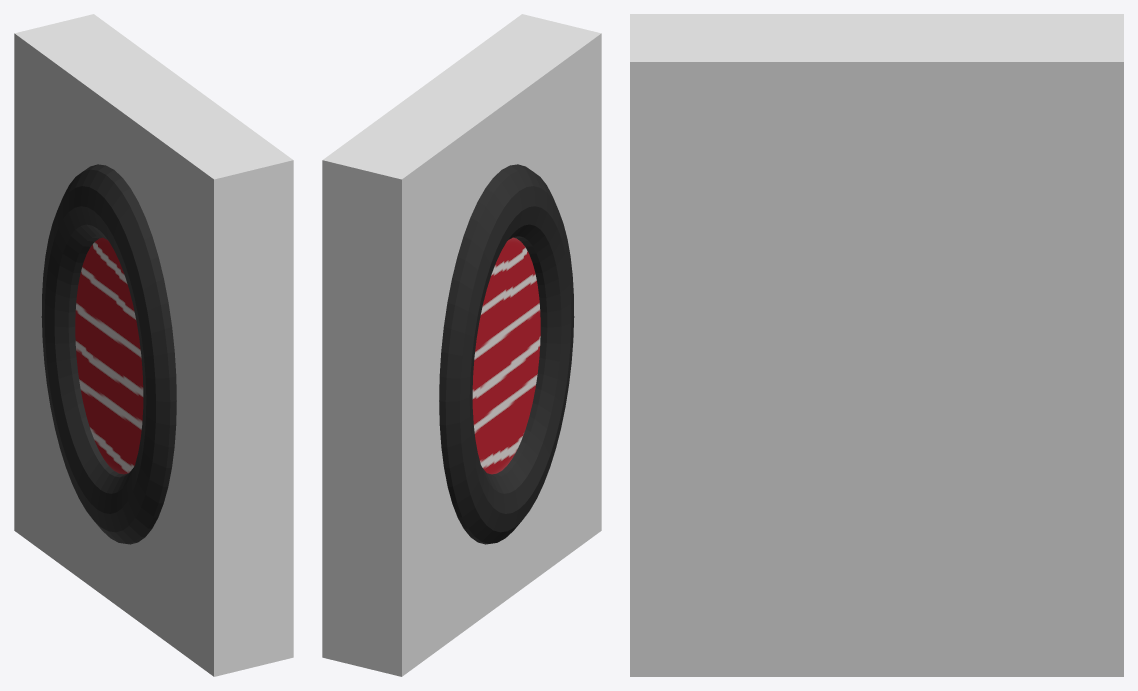
The model's file is farelka.glb.
3 views of the same model, side by side, from view 1: azimuth 30°, elevation 25°; view 2: azimuth 150°, elevation 25°; view 3: azimuth 270°, elevation 25° (orthographic). The views are drawn at different scales.
Parts seen in each view (by area): view 1: Cube, Torus; view 2: Cube, Torus; view 3: Cube.
Boxes of the visible parts, <box> form: Cube: <box>14,14,293,676</box>; Torus: <box>41,164,176,544</box>; Cube: <box>322,14,601,676</box>; Torus: <box>439,164,574,544</box>; Cube: <box>630,14,1123,676</box>.
Size of the model in its own units: 0.9639 by 4.58 by 3.33.
Materials: 2 (2 with a texture image).
